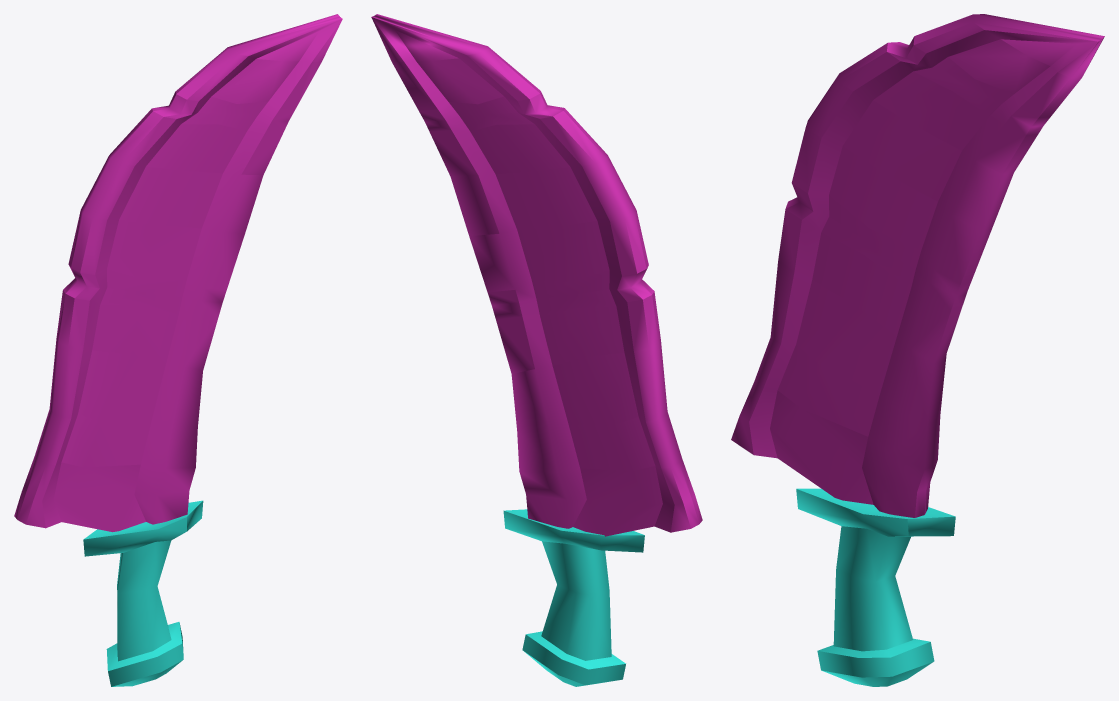
File: Slashthing.fbx
The picture shows the model from 3 angles, left to right: view 1: azimuth 30°, elevation 25°; view 2: azimuth 150°, elevation 25°; view 3: azimuth 330°, elevation 25°; orthographic projection. The views are drawn at different scales.
Visible parts, largest first — view 1: Slashthing; view 2: Slashthing; view 3: Slashthing.
Boxes of the visible parts, x1,y1,x2,y2 form: Slashthing: (14,14,342,686); Slashthing: (371,14,702,686); Slashthing: (731,14,1104,686).
Size of the model in its own units: 0.6707 by 1.22 by 0.1008.
